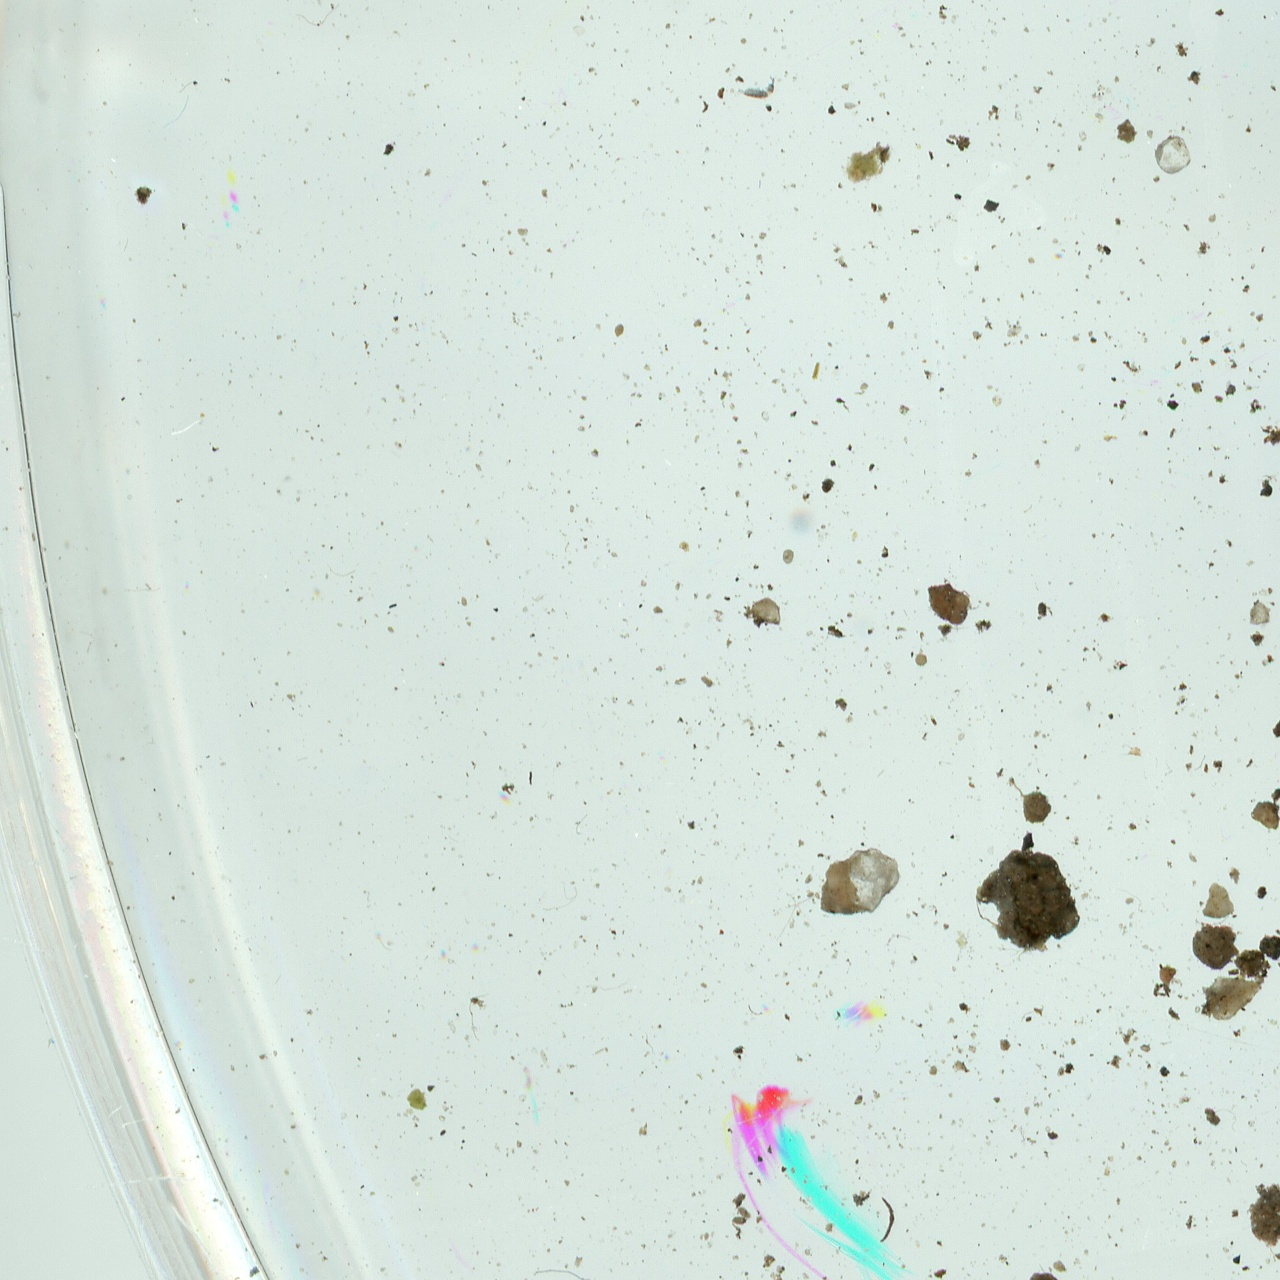arthropod: (720, 1083, 793, 1172), (727, 71, 778, 102)
